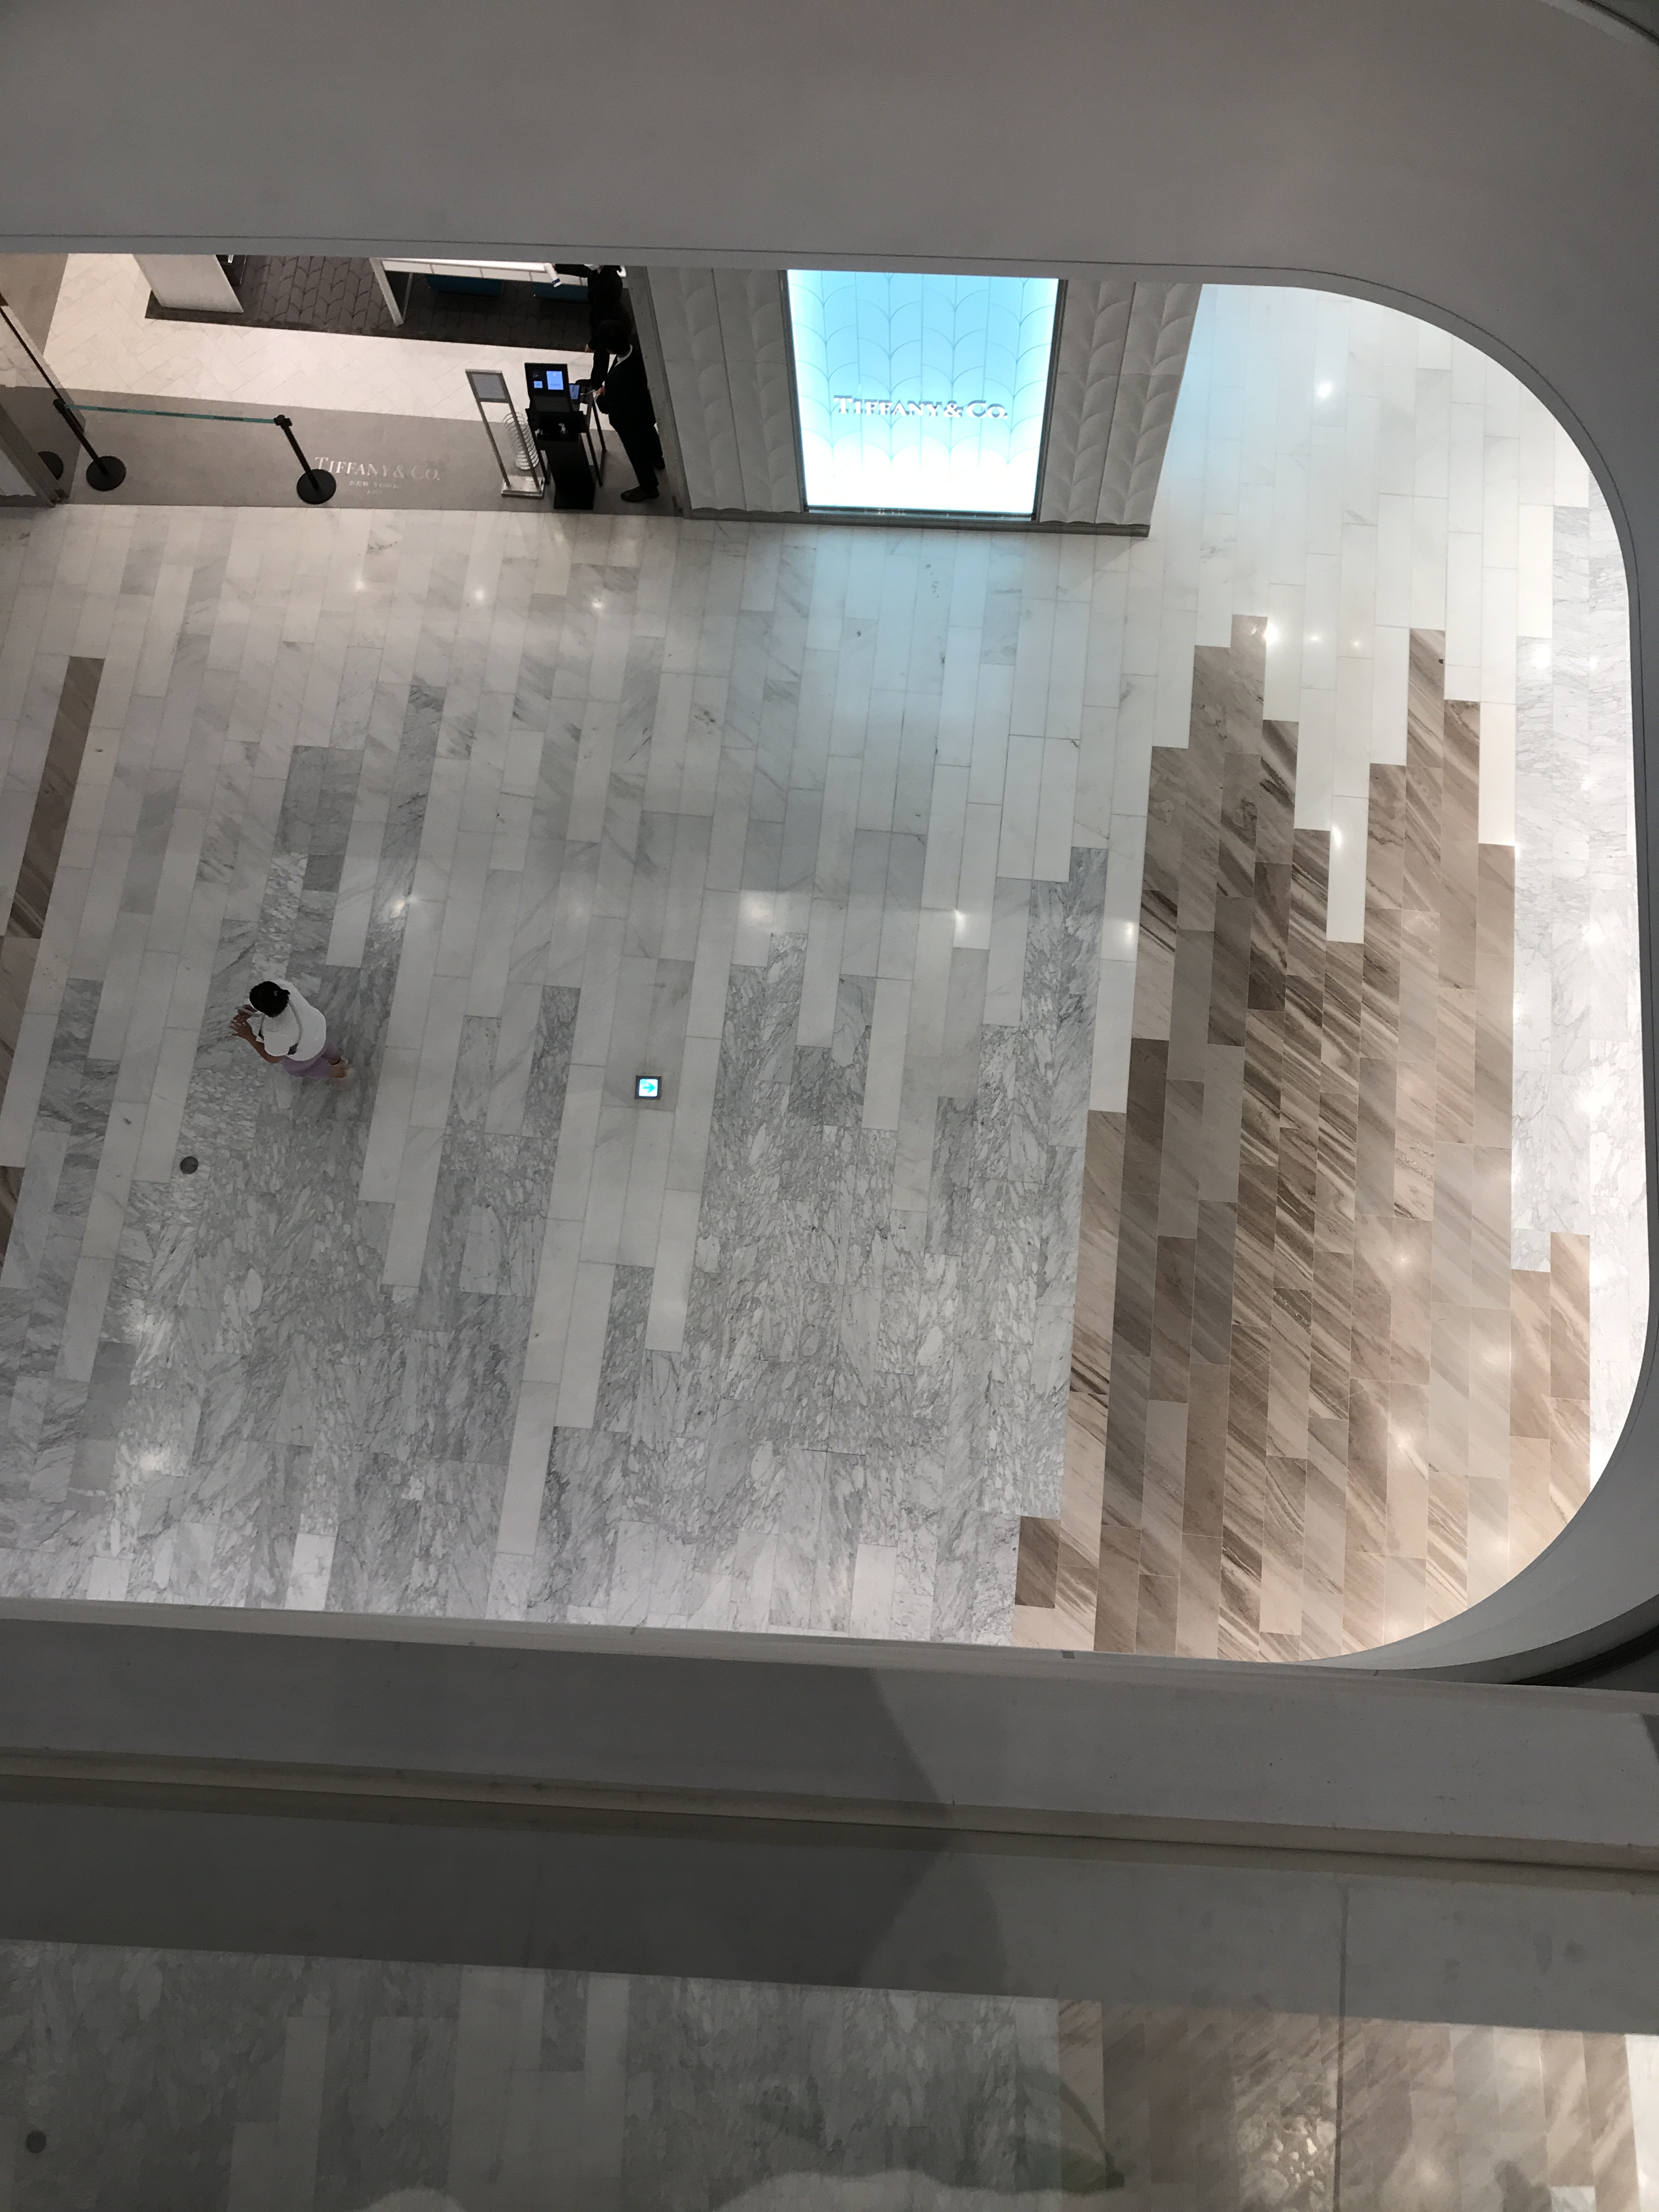person: (227, 977, 357, 1100), (595, 323, 665, 506)
